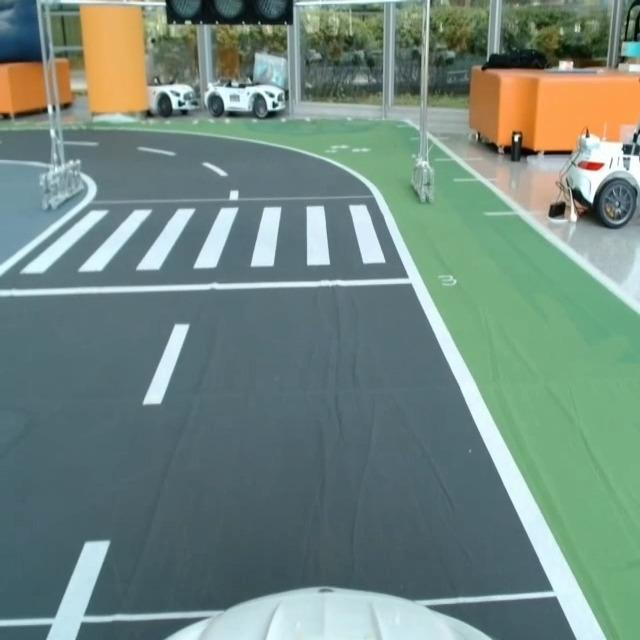traffic-light: (161, 0, 298, 31)
